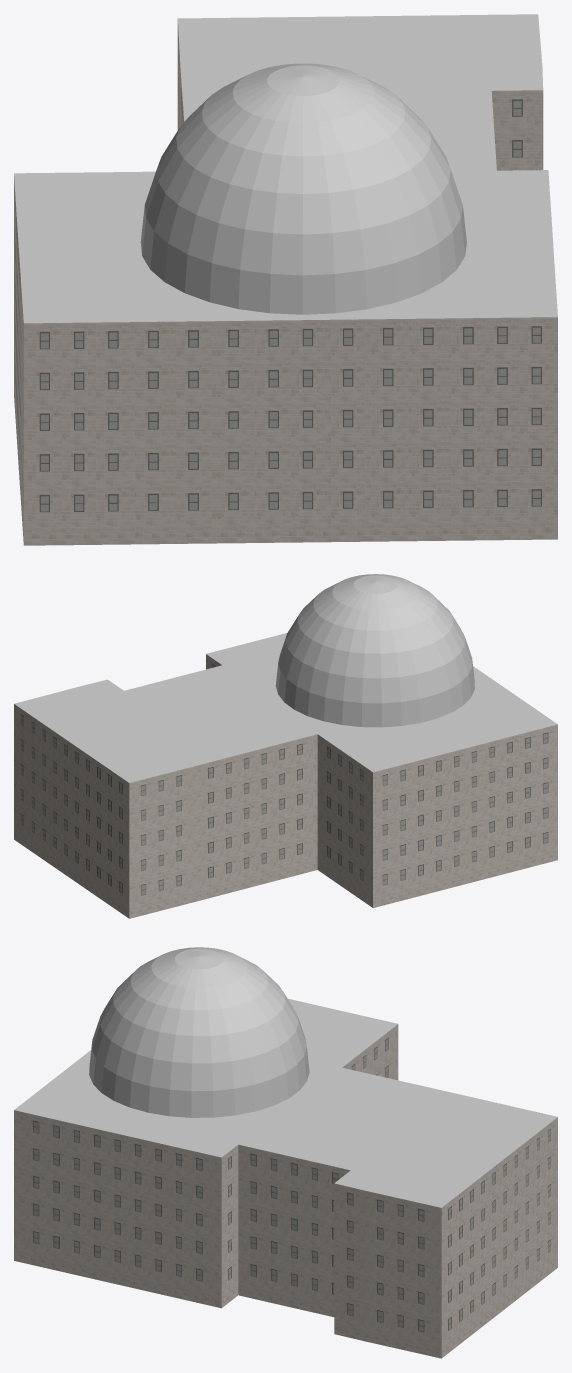
The model's file is building-0-1-32.dae.
3 renders of one model, top to bottom at view 1: azimuth 30°, elevation 25°; view 2: azimuth 150°, elevation 25°; view 3: azimuth 270°, elevation 25°, orthographic. The views are drawn at different scales.
Parts seen in each view (by area): view 1: geopipeinodePGezTCHv (×3); view 2: geopipeinodePGezTCHv (×3); view 3: geopipeinodePGezTCHv (×3).
Boxes of the visible parts, <box> form: geopipeinodePGezTCHv (×3): <box>14,14,557,545</box>; geopipeinodePGezTCHv (×3): <box>14,574,557,918</box>; geopipeinodePGezTCHv (×3): <box>14,947,557,1358</box>.
Size of the model in its own units: 69.45 by 68.68 by 37.
